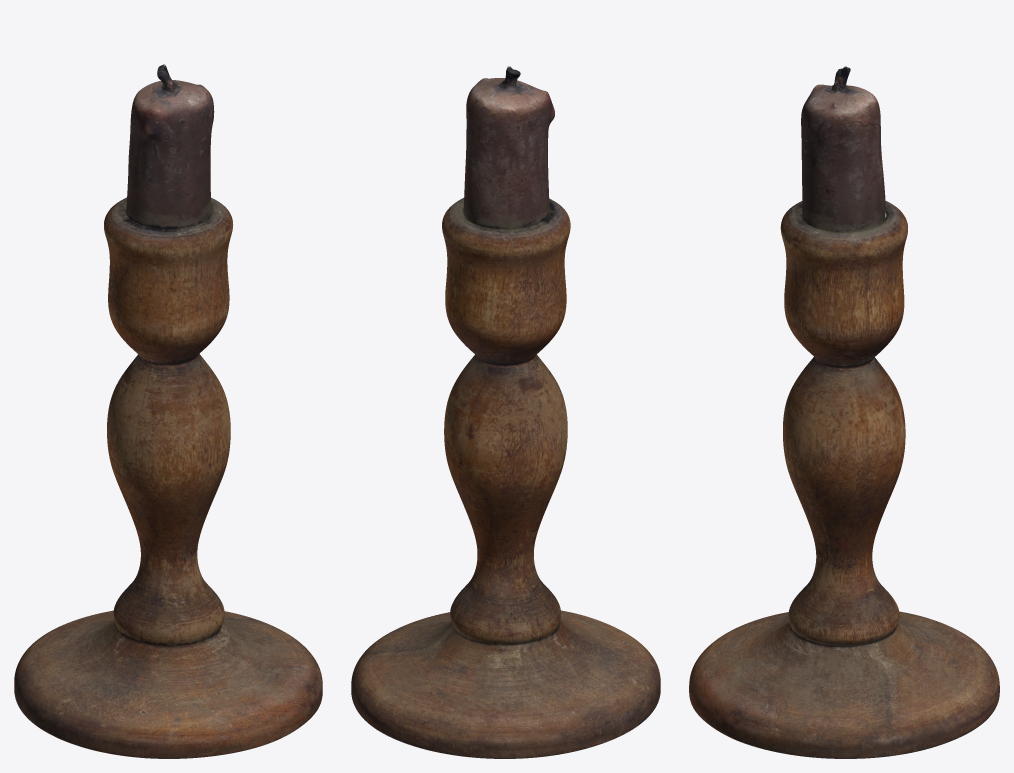
Rendered from wooden_candlestick.glb.
The picture shows the model from 3 angles, left to right: view 1: azimuth 30°, elevation 25°; view 2: azimuth 150°, elevation 25°; view 3: azimuth 270°, elevation 25°; orthographic projection.
Visible parts, largest first — view 1: wooden_candlestick; view 2: wooden_candlestick; view 3: wooden_candlestick.
Boxes of the visible parts, left/top/right/bottom form: wooden_candlestick: left=14, top=64, right=322, bottom=758; wooden_candlestick: left=351, top=66, right=660, bottom=758; wooden_candlestick: left=689, top=66, right=999, bottom=758.
Bounding box in the file's own units: 0.0972 × 0.2377 × 0.0987.
Materials: 7 (4 with a texture image).
